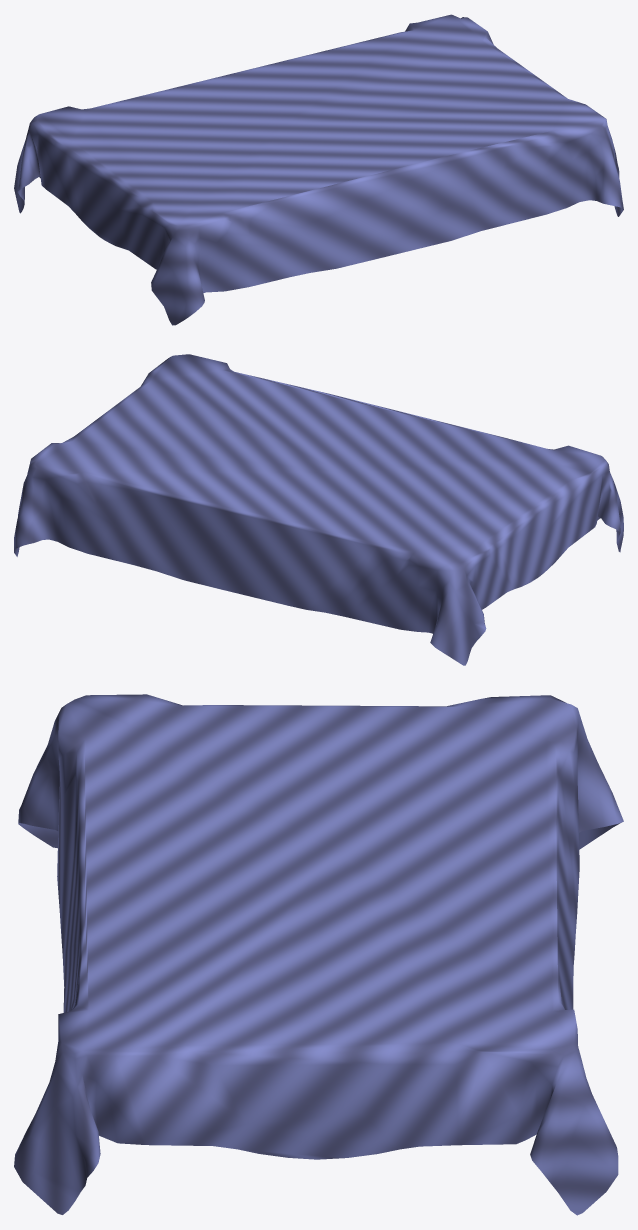
Rendered from cloth.obj.
3 views of the same model, one above another, from view 1: azimuth 30°, elevation 25°; view 2: azimuth 150°, elevation 25°; view 3: azimuth 270°, elevation 25° (orthographic). The views are drawn at different scales.
Visible parts, largest first — view 1: Mat_Plane.008; view 2: Mat_Plane.008; view 3: Mat_Plane.008.
Part boxes in pixels (box(x1,y1,x2,y2)): Mat_Plane.008: box(14, 14, 623, 325); Mat_Plane.008: box(14, 354, 623, 665); Mat_Plane.008: box(14, 694, 623, 1215).
Size of the model in its own units: 19.25 by 3.77 by 12.93.
